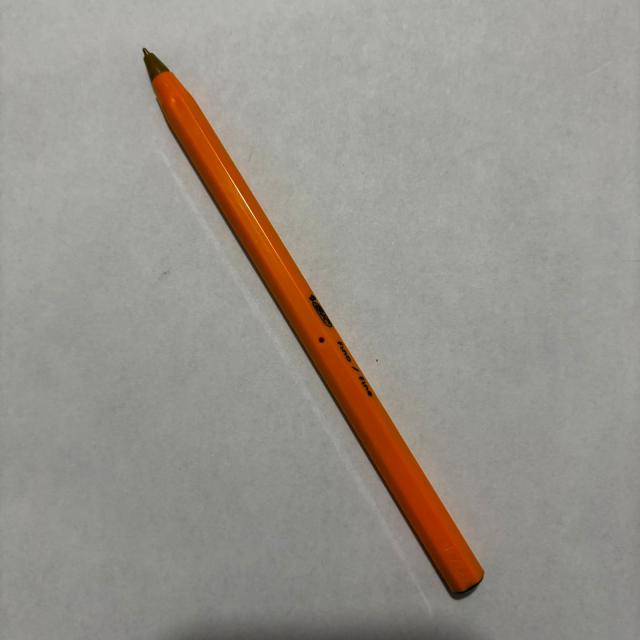pencil: (144, 51, 486, 602)
